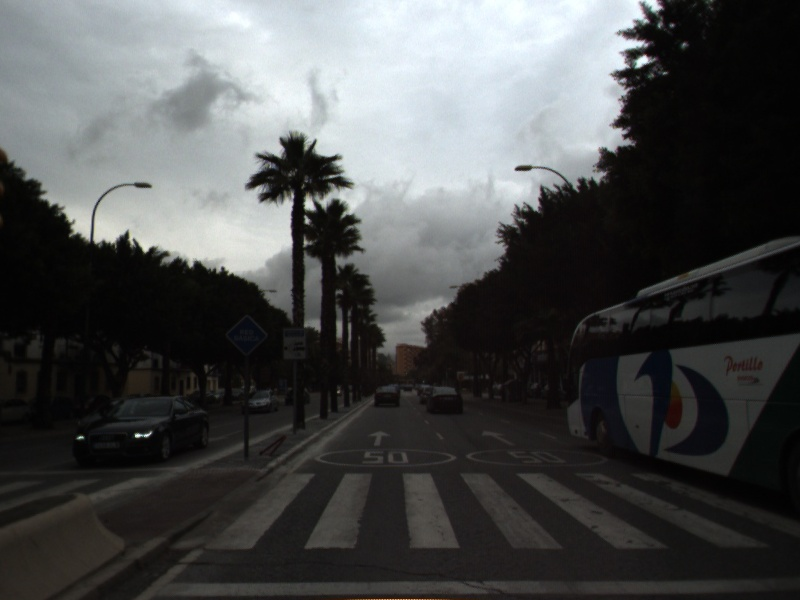STRAIGHT: (480, 428, 518, 448), (366, 428, 392, 448)
